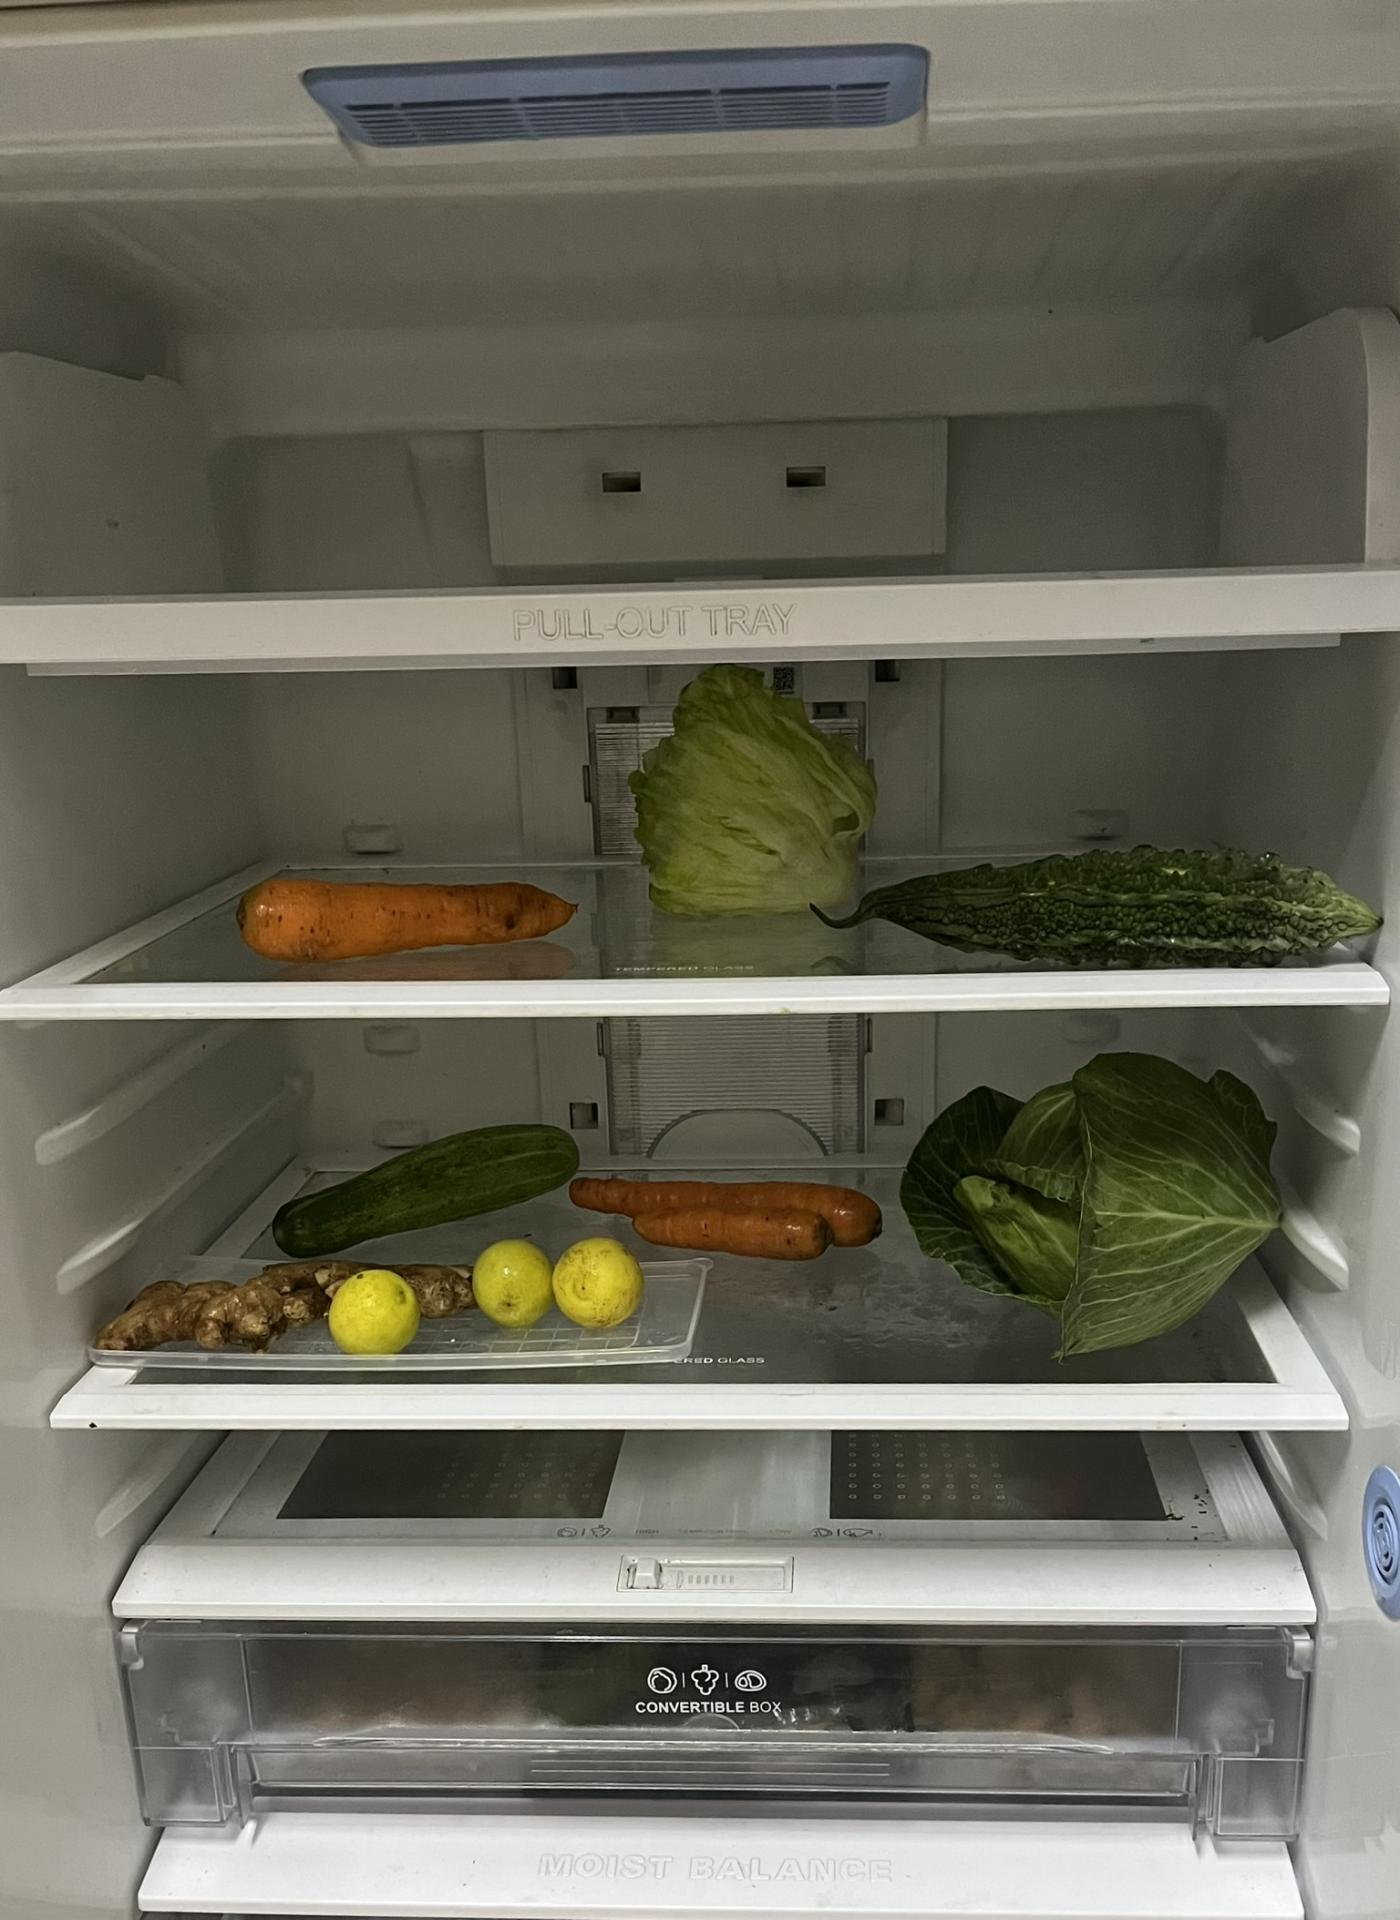bitter gourd: (863, 842, 1397, 961)
cabbage: (915, 1051, 1278, 1336)
carrots: (228, 872, 576, 956), (565, 1172, 881, 1263)
cucumber: (258, 1122, 580, 1261)
ginger: (89, 1258, 485, 1343)
lemon: (464, 1236, 646, 1322), (328, 1275, 432, 1352)
lettuce: (646, 678, 875, 917)
